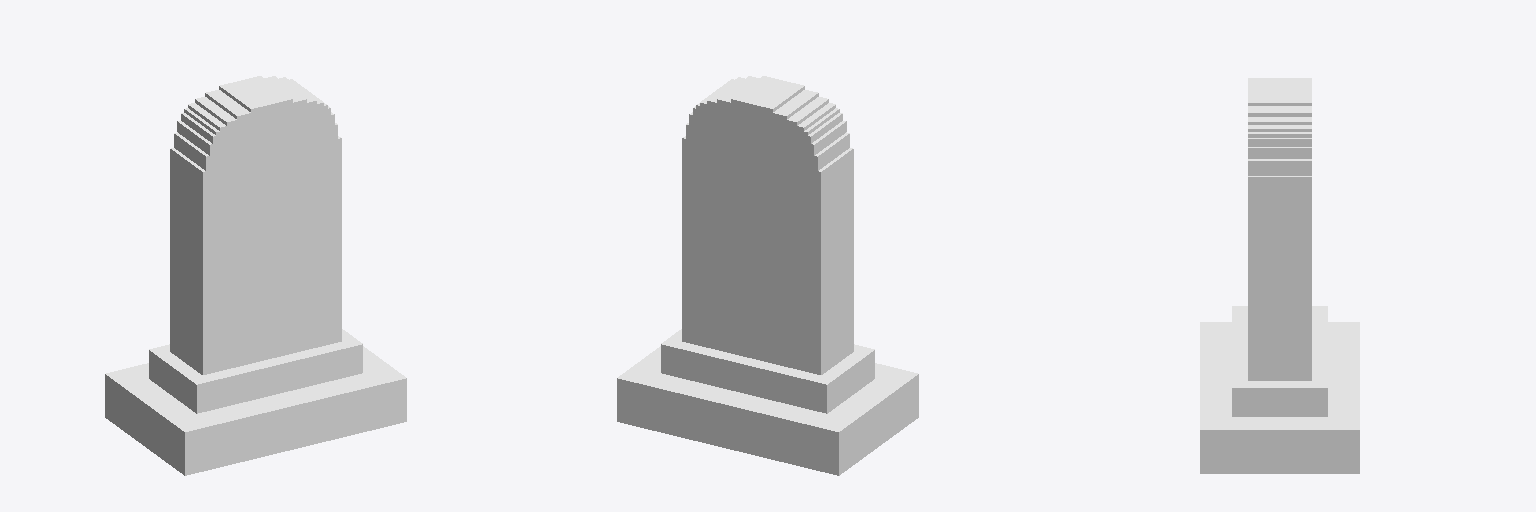
The model's file is headstone.obj.
3 views of the same model, side by side, from view 1: azimuth 30°, elevation 25°; view 2: azimuth 150°, elevation 25°; view 3: azimuth 270°, elevation 25° (orthographic).
Visible parts, largest first — view 1: object 1; view 2: object 1; view 3: object 1.
Boxes of the visible parts, x1=… form: object 1: x1=105, y1=76, x2=406, y2=475; object 1: x1=617, y1=76, x2=918, y2=475; object 1: x1=1200, y1=78, x2=1359, y2=473.
Size of the model in its own units: 6.4 by 9 by 4.